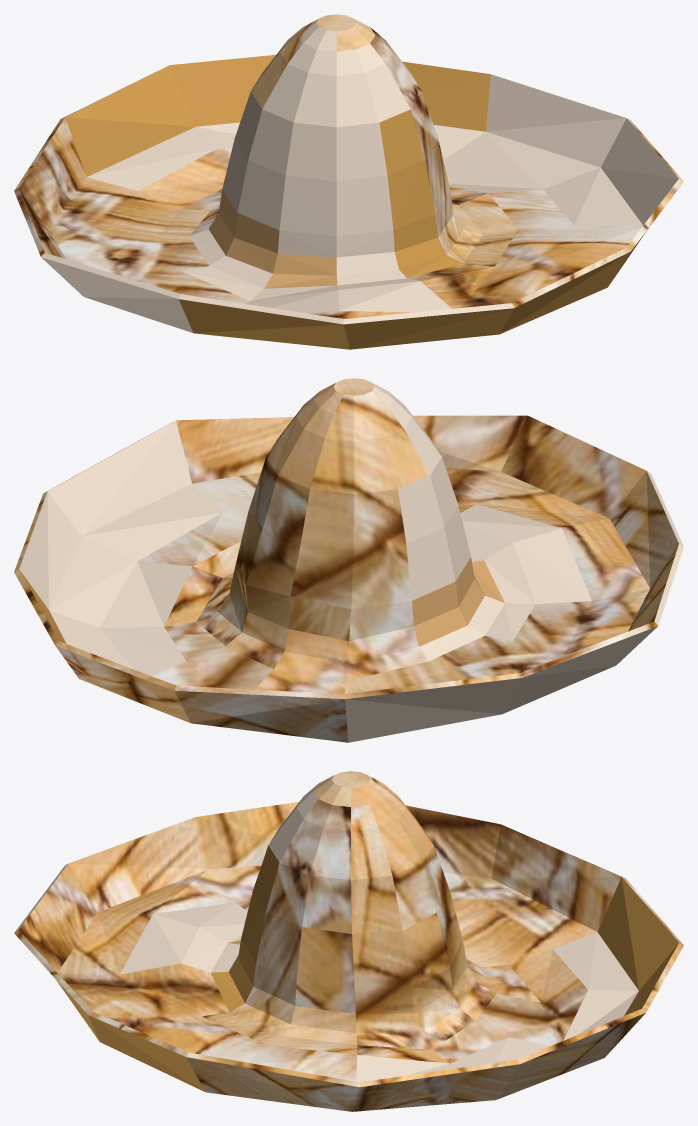
File: sombrero.obj
The picture shows the model from 3 angles, top to bottom: view 1: azimuth 30°, elevation 25°; view 2: azimuth 150°, elevation 25°; view 3: azimuth 270°, elevation 25°; orthographic projection. The views are drawn at different scales.
Visible parts, largest first — view 1: Circle; view 2: Circle; view 3: Circle.
Part boxes in pixels (box(x1,y1,x2,y2)): Circle: box(14, 14, 683, 349); Circle: box(14, 378, 683, 742); Circle: box(14, 771, 683, 1111).
Bounding box in the file's own units: 2.29 × 0.8696 × 2.32.
1 material, 1 textured.
